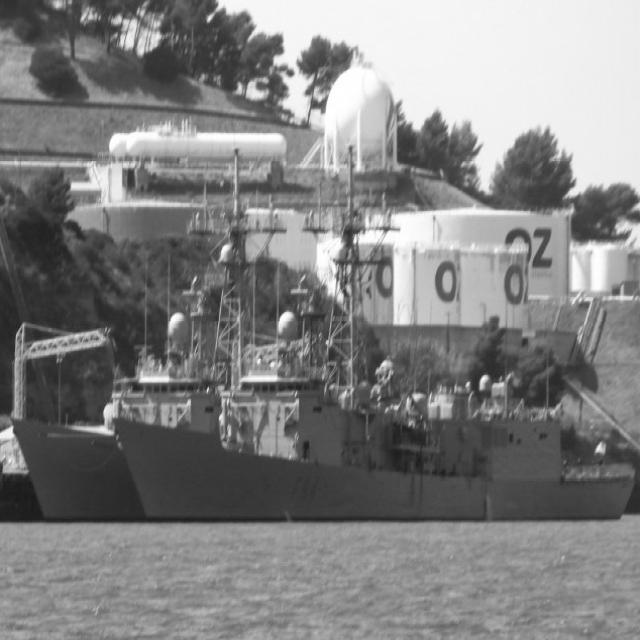Fragata: (114, 274, 640, 527)
